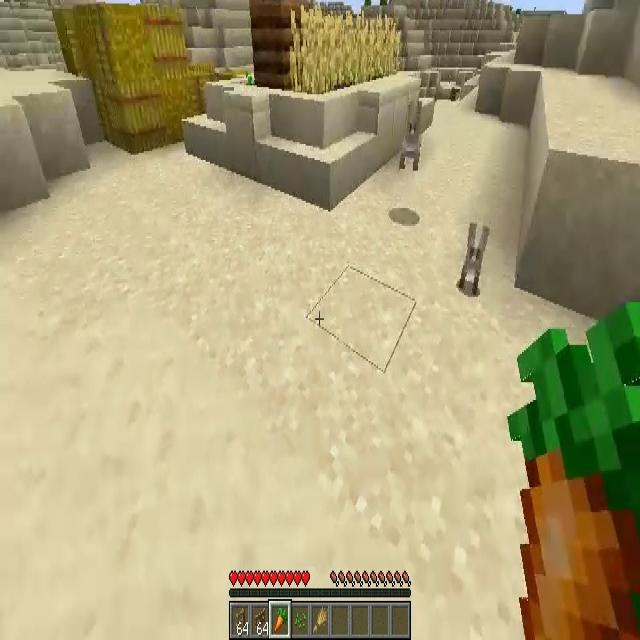rabbit: (457, 221, 490, 295), (400, 104, 420, 170)
